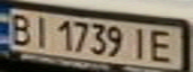1: (51, 17, 72, 52)
3: (87, 20, 109, 56)
7: (69, 18, 90, 53)
9: (103, 22, 127, 60)
B: (3, 10, 36, 46)
E: (145, 27, 178, 64)
I: (127, 25, 154, 61), (27, 15, 54, 48)
